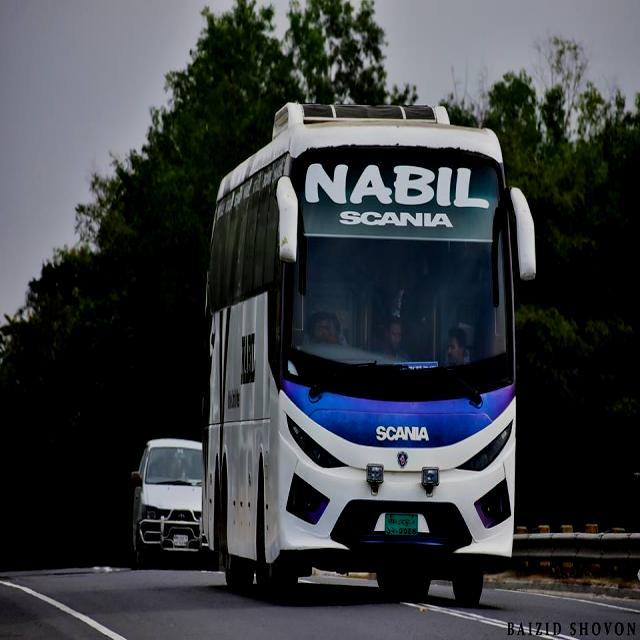bus: (203, 101, 539, 608)
